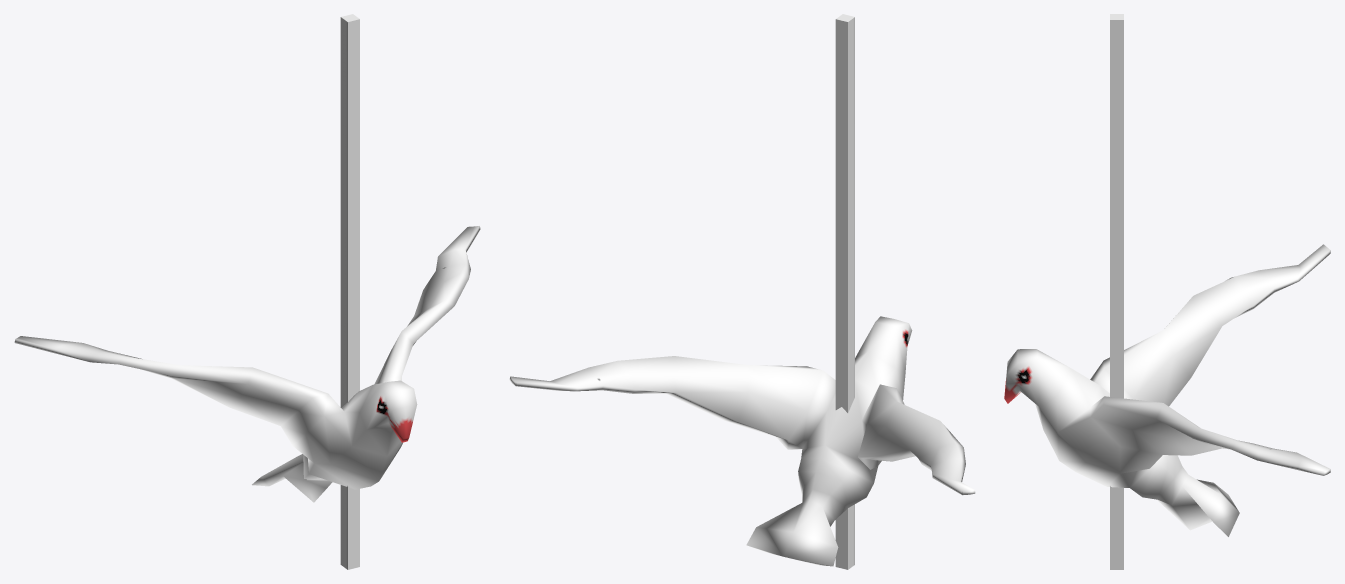
The model's file is dove.obj.
3 views of the same model, side by side, from view 1: azimuth 30°, elevation 25°; view 2: azimuth 150°, elevation 25°; view 3: azimuth 270°, elevation 25° (orthographic).
Parts seen in each view (by area): view 1: Cylinder.003; view 2: Cylinder.003; view 3: Cylinder.003.
Part boxes in pixels (x1,y1,x2,y2): Cylinder.003: (14, 14, 480, 569); Cylinder.003: (509, 14, 975, 569); Cylinder.003: (1004, 14, 1330, 569).
Size of the model in its own units: 4.29 by 4.82 by 2.59.
1 material, 1 textured.
